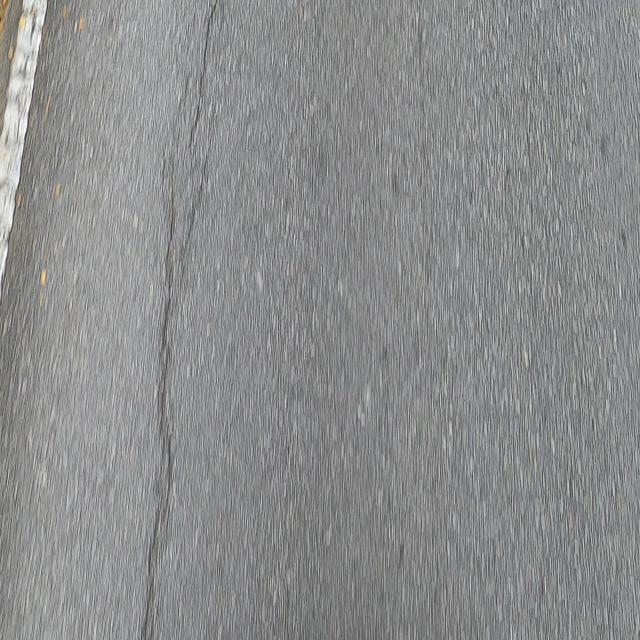Retak-Memanjang: (136, 184, 182, 633), (186, 1, 219, 153)
